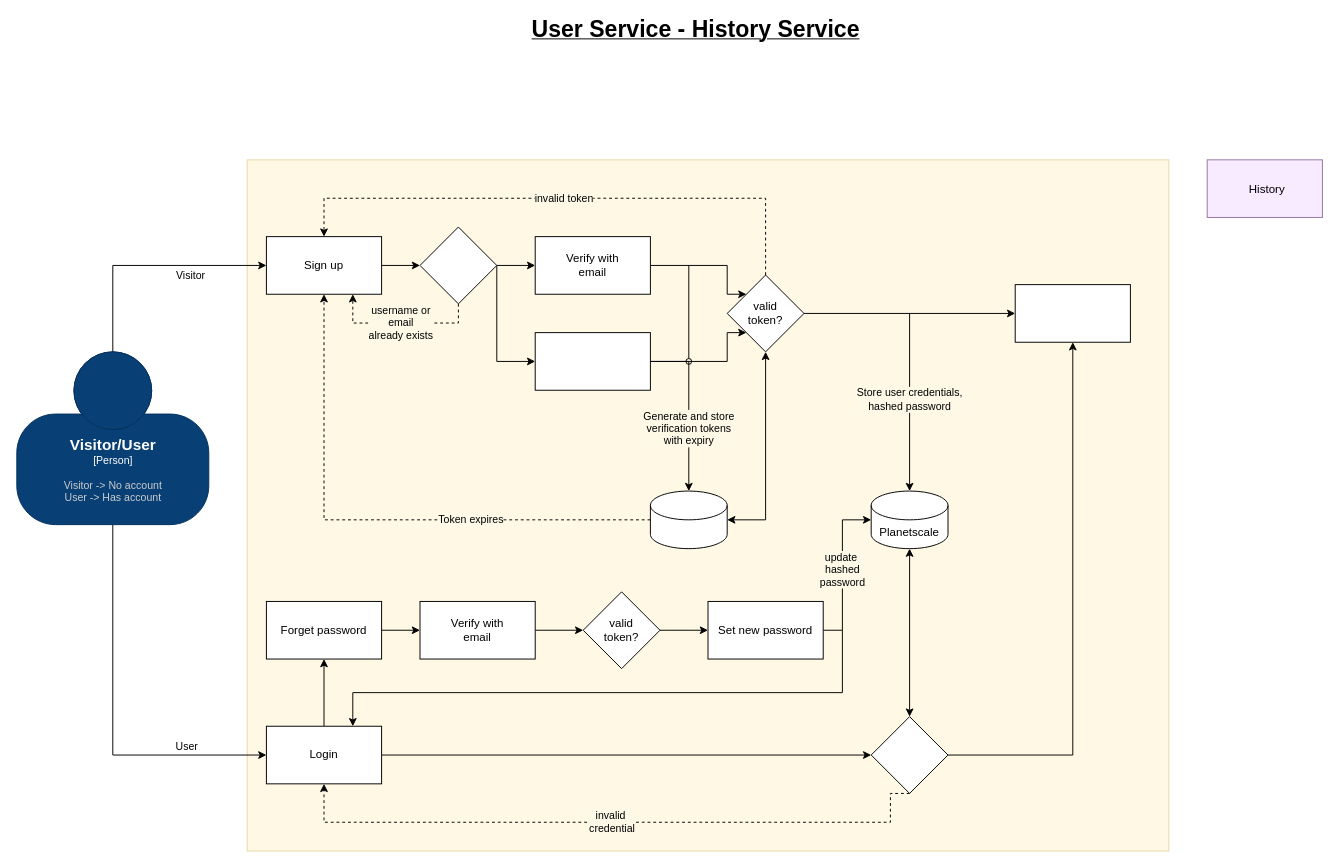
Some shapes in this 1339 by 868 pixel diagram are drawn without their labels. The box of each missing label's shape, as (x1, y1, x2, y2) in pixels:
Authentication: (246, 159, 1169, 851)
Dashboard: (1014, 284, 1130, 342)
no duplicate ?: (419, 226, 497, 304)
Redis: (649, 490, 727, 549)
valid credentials ?: (870, 716, 948, 793)
Verify with OAuth (Github): (534, 332, 650, 390)
